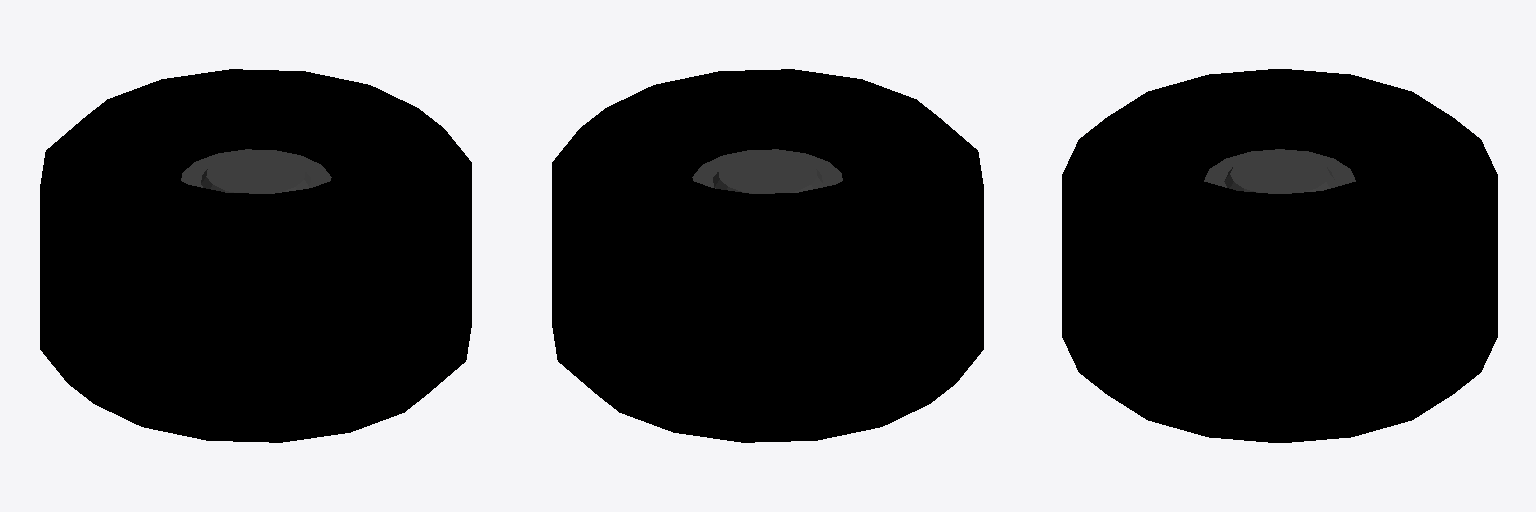
File: wheel_module.obj
3 views of the same model, side by side, from view 1: azimuth 30°, elevation 25°; view 2: azimuth 150°, elevation 25°; view 3: azimuth 270°, elevation 25° (orthographic).
Parts seen in each view (by area): view 1: Cylinder; view 2: Cylinder; view 3: Cylinder.
Part boxes in pixels (left/top/right/bottom): Cylinder: left=40, top=69, right=471, bottom=442; Cylinder: left=552, top=69, right=983, bottom=442; Cylinder: left=1062, top=69, right=1497, bottom=442.
Bounding box in the file's own units: 4 × 2.19 × 4.